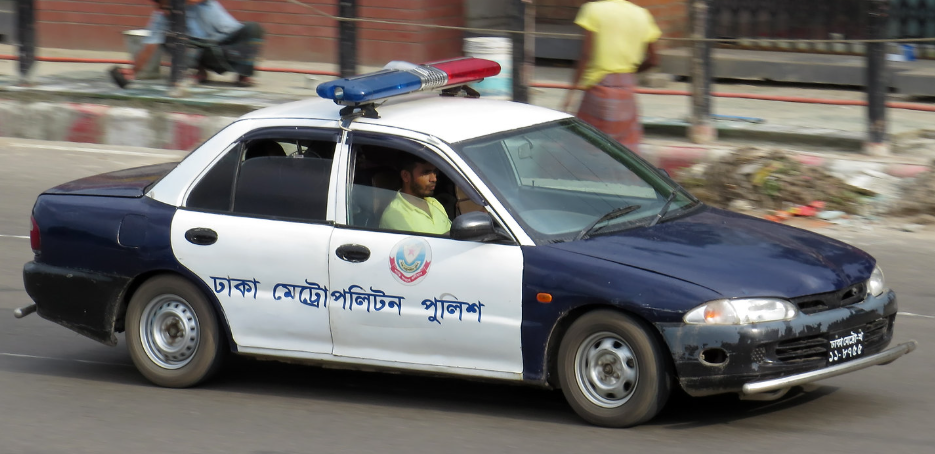Police cars: (4, 56, 917, 416)
